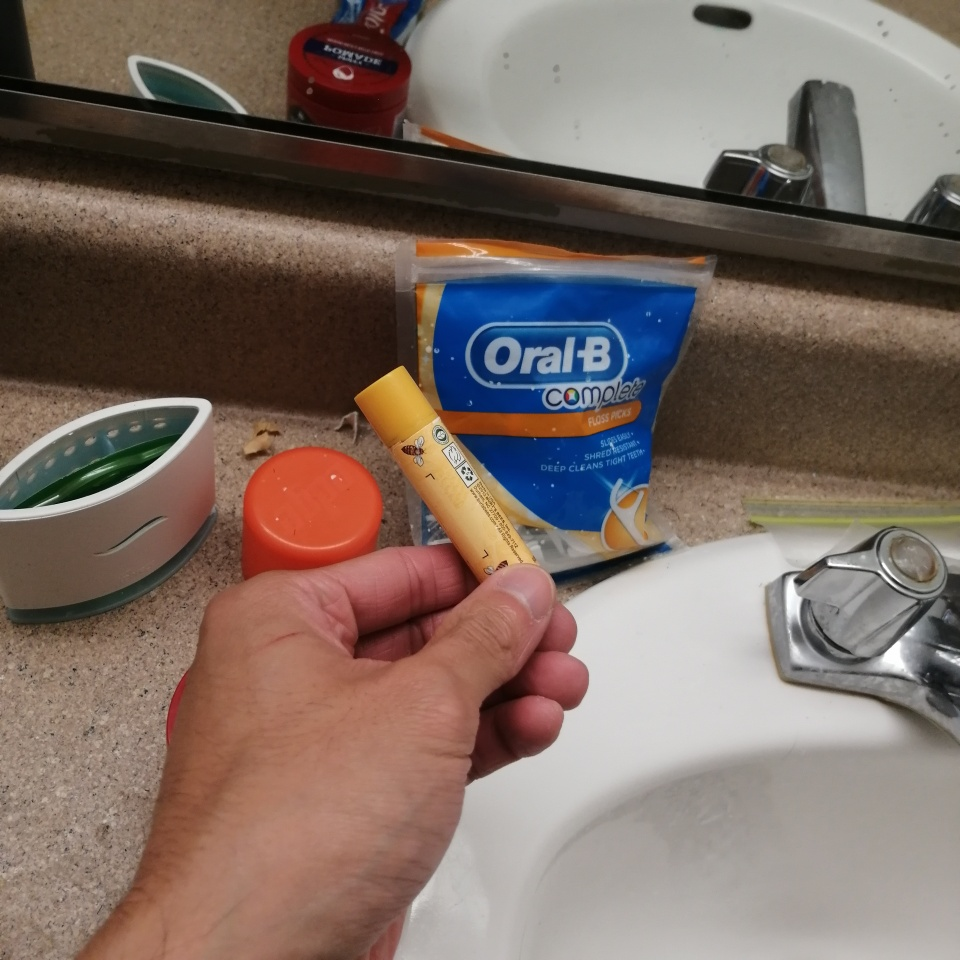chapstick: (353, 363, 539, 583)
